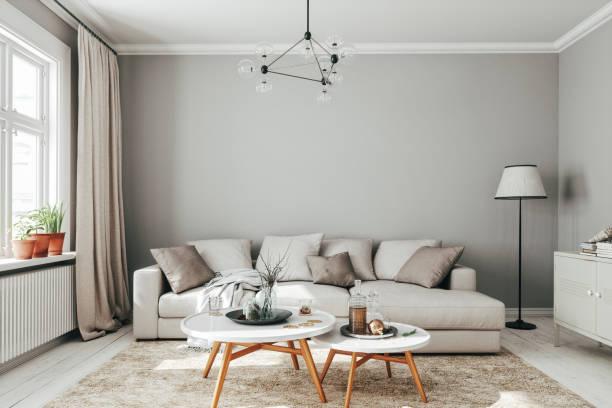floor lamp: (492, 160, 549, 333)
small plant: (6, 209, 37, 261), (43, 204, 67, 256), (26, 207, 49, 257)
sofa: (129, 232, 506, 360)
table: (179, 305, 339, 406), (313, 316, 432, 408)
